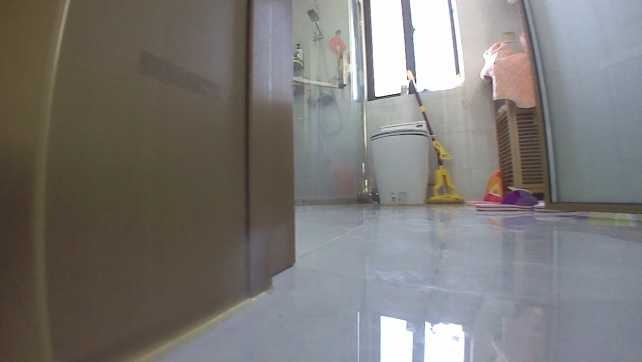slipper: (472, 187, 547, 212)
toilet: (367, 120, 432, 207)
